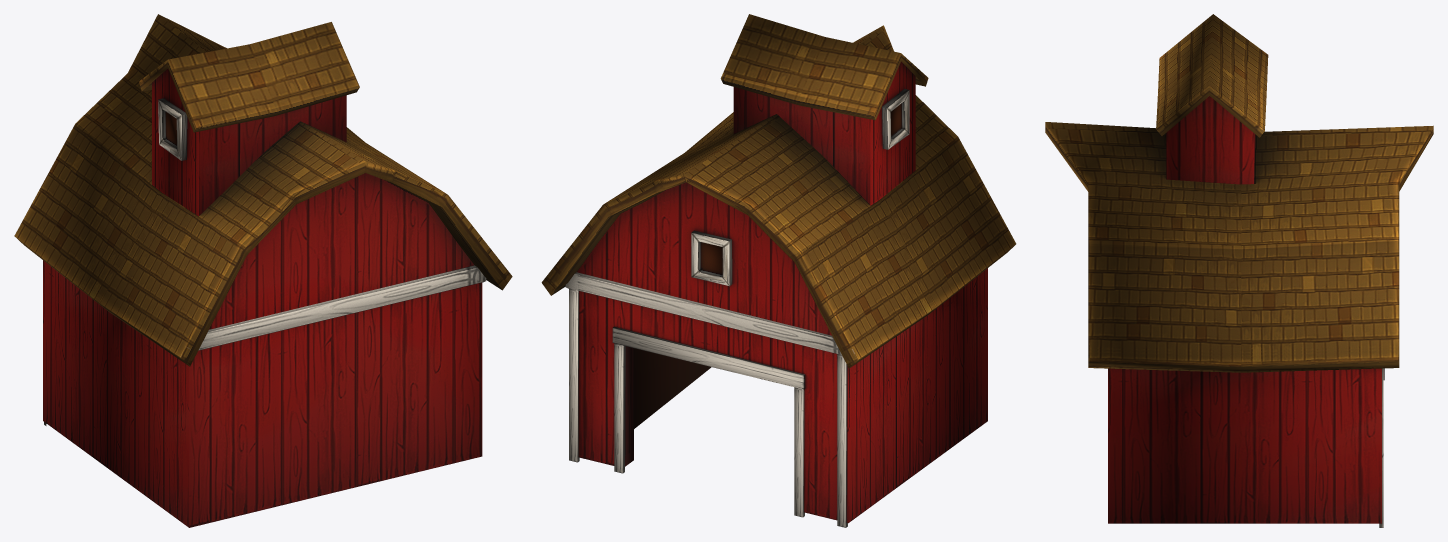
Rendered from barn.obj.
3 renders of one model, left to right at view 1: azimuth 30°, elevation 25°; view 2: azimuth 150°, elevation 25°; view 3: azimuth 270°, elevation 25°, orthographic. The views are drawn at different scales.
Parts seen in each view (by area): view 1: farm_barn_01_blend:farm_barn_farm_barn_mesh; view 2: farm_barn_01_blend:farm_barn_farm_barn_mesh; view 3: farm_barn_01_blend:farm_barn_farm_barn_mesh.
Boxes of the visible parts, bbox=[...] form: farm_barn_01_blend:farm_barn_farm_barn_mesh: bbox=[14, 14, 512, 527]; farm_barn_01_blend:farm_barn_farm_barn_mesh: bbox=[541, 14, 1016, 527]; farm_barn_01_blend:farm_barn_farm_barn_mesh: bbox=[1045, 14, 1433, 527].
Size of the model in its own units: 2.62 by 3.19 by 2.83.
1 material, 1 textured.
